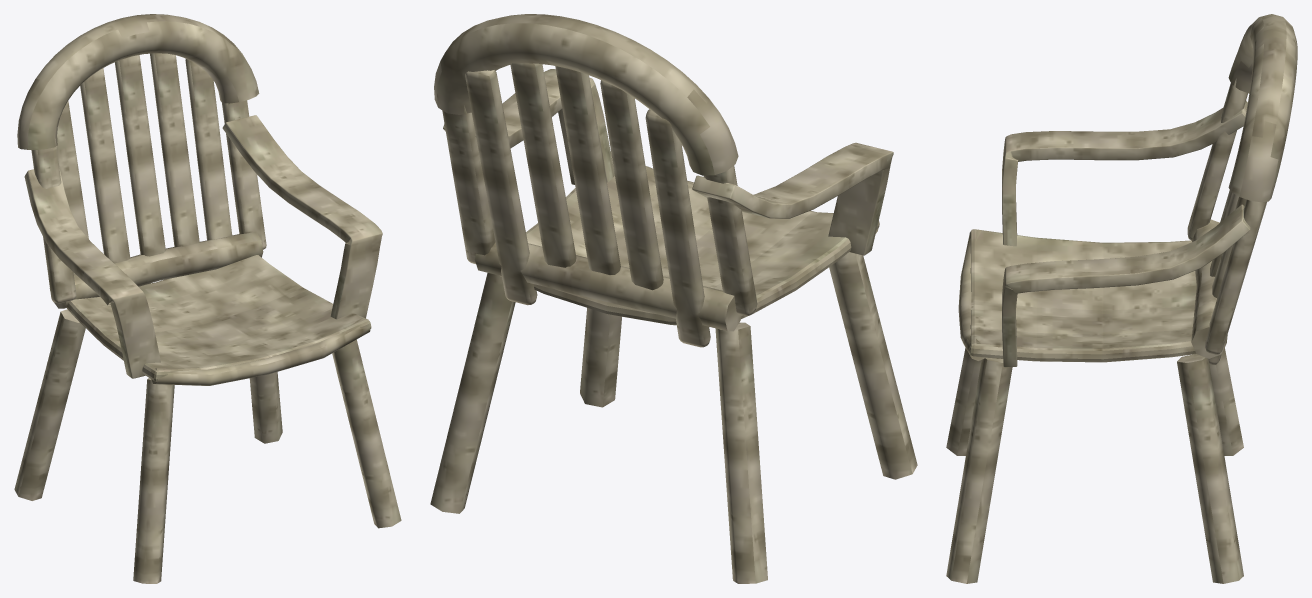
File: by_chair_white.glb
The picture shows the model from 3 angles, left to right: view 1: azimuth 30°, elevation 25°; view 2: azimuth 150°, elevation 25°; view 3: azimuth 270°, elevation 25°; orthographic projection. The views are drawn at different scales.
Visible parts, largest first — view 1: by_chair_white; view 2: by_chair_white; view 3: by_chair_white.
Part boxes in pixels (box(x1,y1,x2,y2)): by_chair_white: box(14, 14, 401, 583); by_chair_white: box(430, 14, 917, 583); by_chair_white: box(946, 14, 1297, 583).
Size of the model in its own units: 0.6328 by 0.9626 by 0.6326.
1 material, 1 textured.
